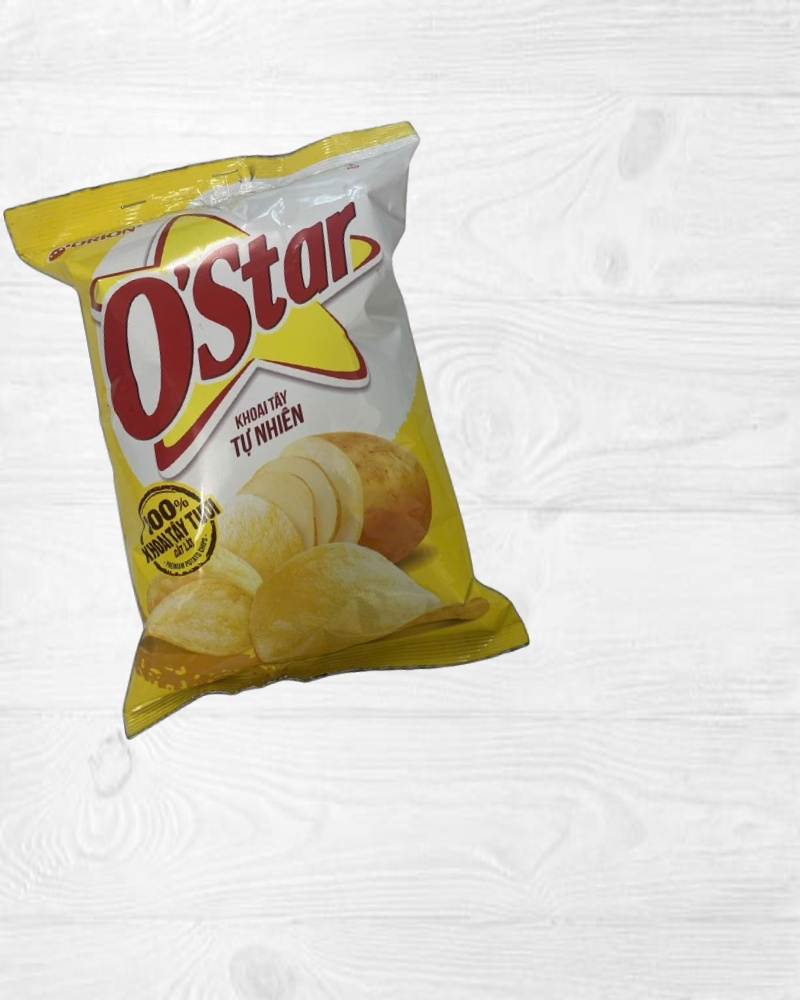O'star: (2, 116, 534, 745)
